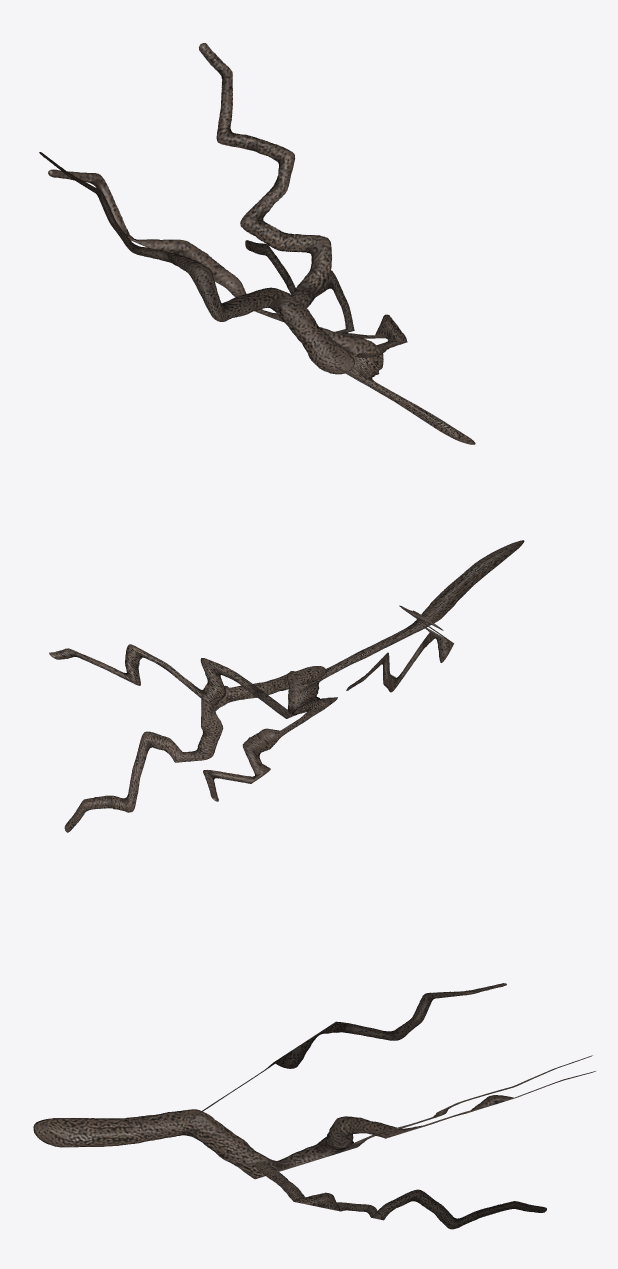
3 renders of one model, top to bottom at view 1: azimuth 30°, elevation 25°; view 2: azimuth 150°, elevation 25°; view 3: azimuth 270°, elevation 25°, orthographic. The views are drawn at different scales.
Visible parts, largest first — view 1: WRoot_01; view 2: WRoot_01; view 3: WRoot_01.
Part boxes in pixels (box(x1,y1,x2,y2)): WRoot_01: box(39, 43, 475, 444); WRoot_01: box(49, 540, 524, 832); WRoot_01: box(33, 983, 595, 1229).
Bounding box in the file's own units: 1.67 × 1.62 × 3.68.
